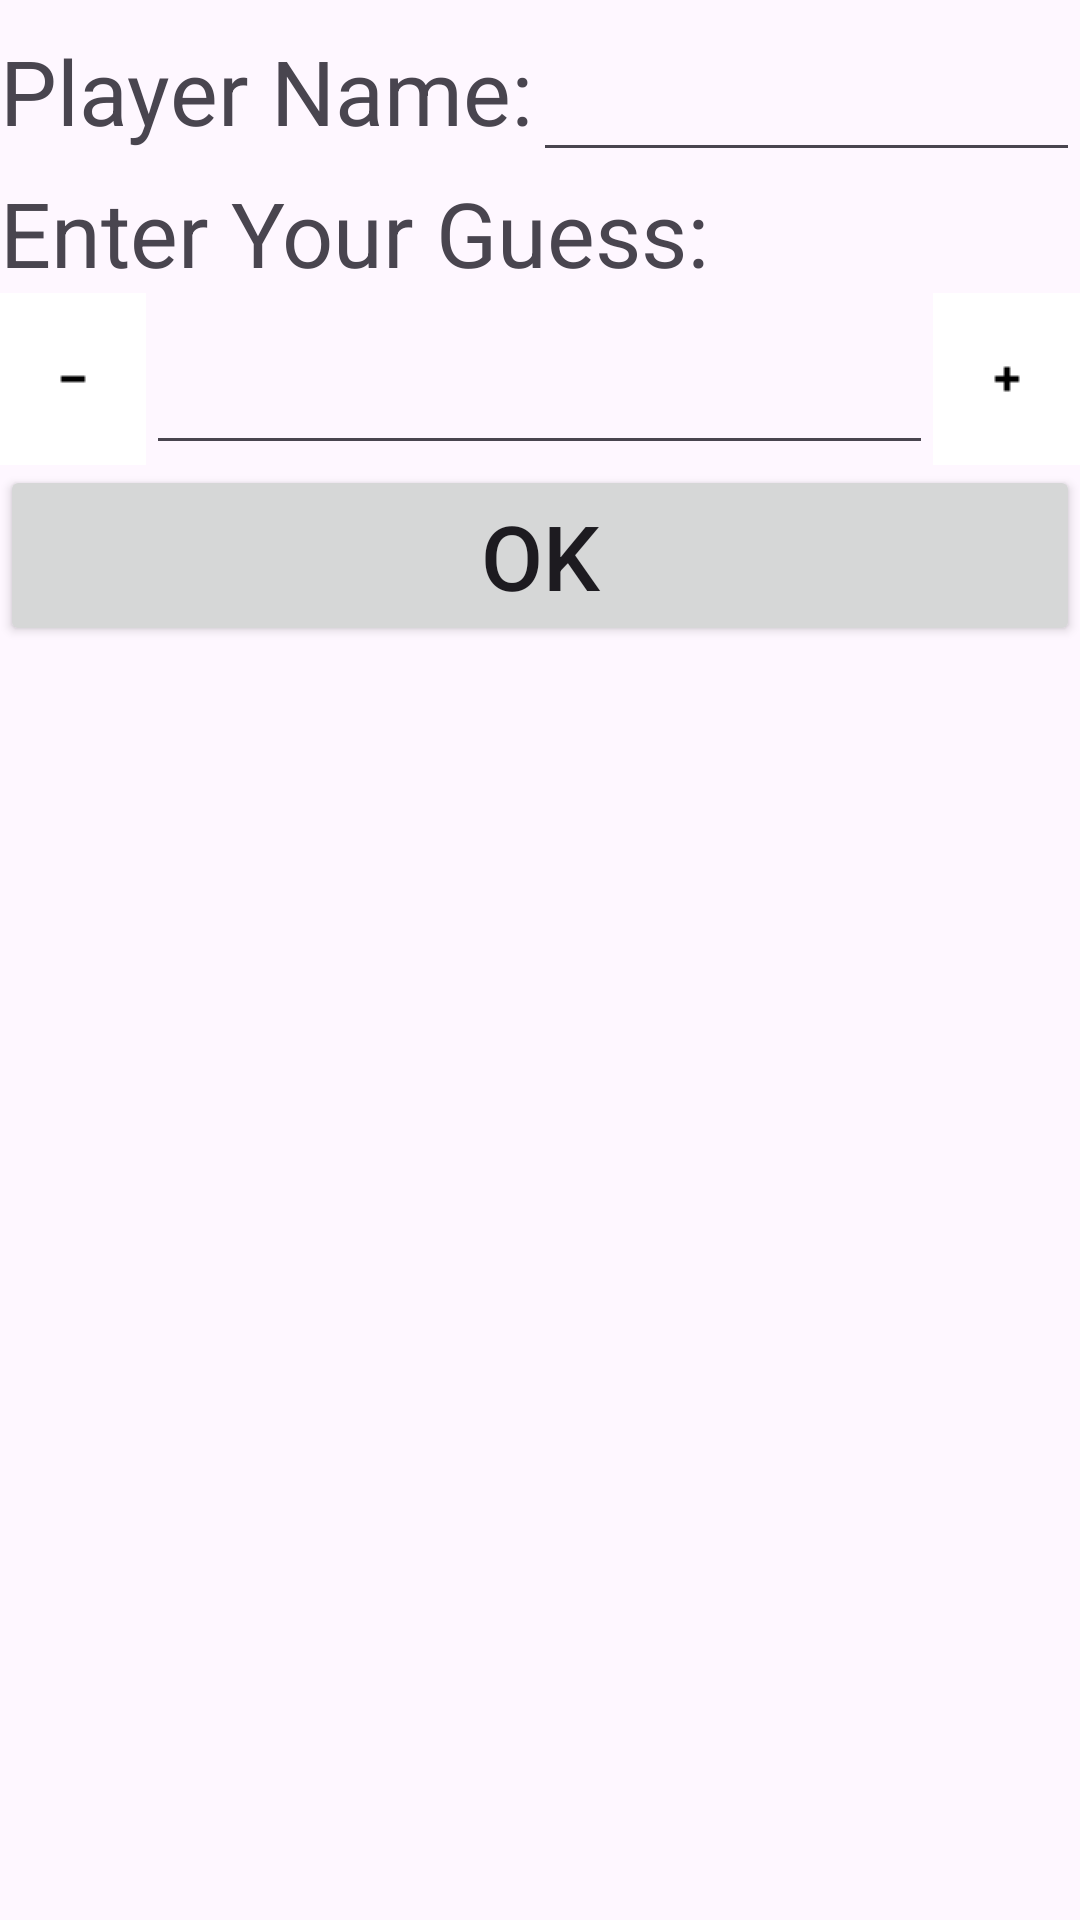

Icons on this 1080w x 1920h Android screen, each with the point to tap as (x,y):
minus: (73,379)
plus: (1007,379)
